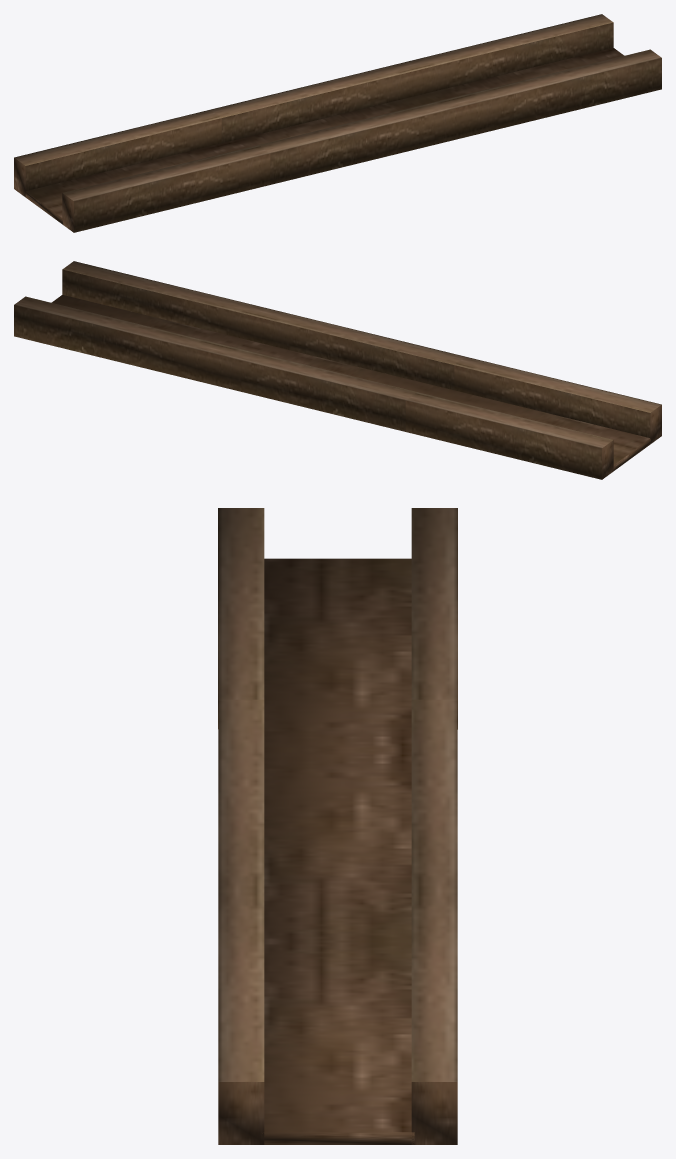
File: C5_WaterWagon_Batten03.FBX
3 renders of one model, top to bottom at view 1: azimuth 30°, elevation 25°; view 2: azimuth 150°, elevation 25°; view 3: azimuth 270°, elevation 25°, orthographic. The views are drawn at different scales.
Parts seen in each view (by area): view 1: C5_WaterWagon_Batten03; view 2: C5_WaterWagon_Batten03; view 3: C5_WaterWagon_Batten03.
Boxes of the visible parts, x1,y1,x2,y2 form: C5_WaterWagon_Batten03: (14,14,661,232); C5_WaterWagon_Batten03: (14,261,661,479); C5_WaterWagon_Batten03: (218,508,457,1144).
Size of the model in its own units: 197 by 10.1 by 34.84.
